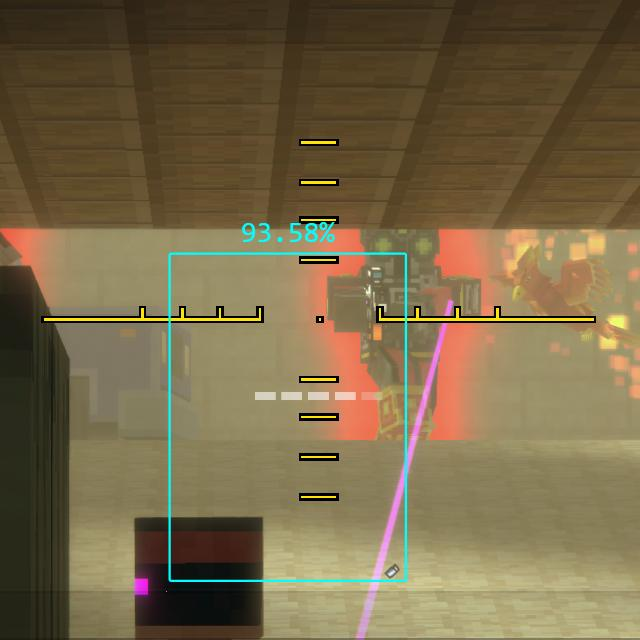Enemy: (326, 225, 483, 439)
